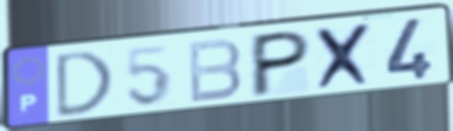4: (383, 16, 440, 83)
5: (125, 44, 176, 109)
B: (185, 37, 244, 106)
D: (54, 48, 117, 122)
P: (247, 28, 314, 101)
X: (312, 20, 377, 93)
